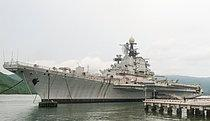MIL_Ship: (2, 33, 202, 104)
